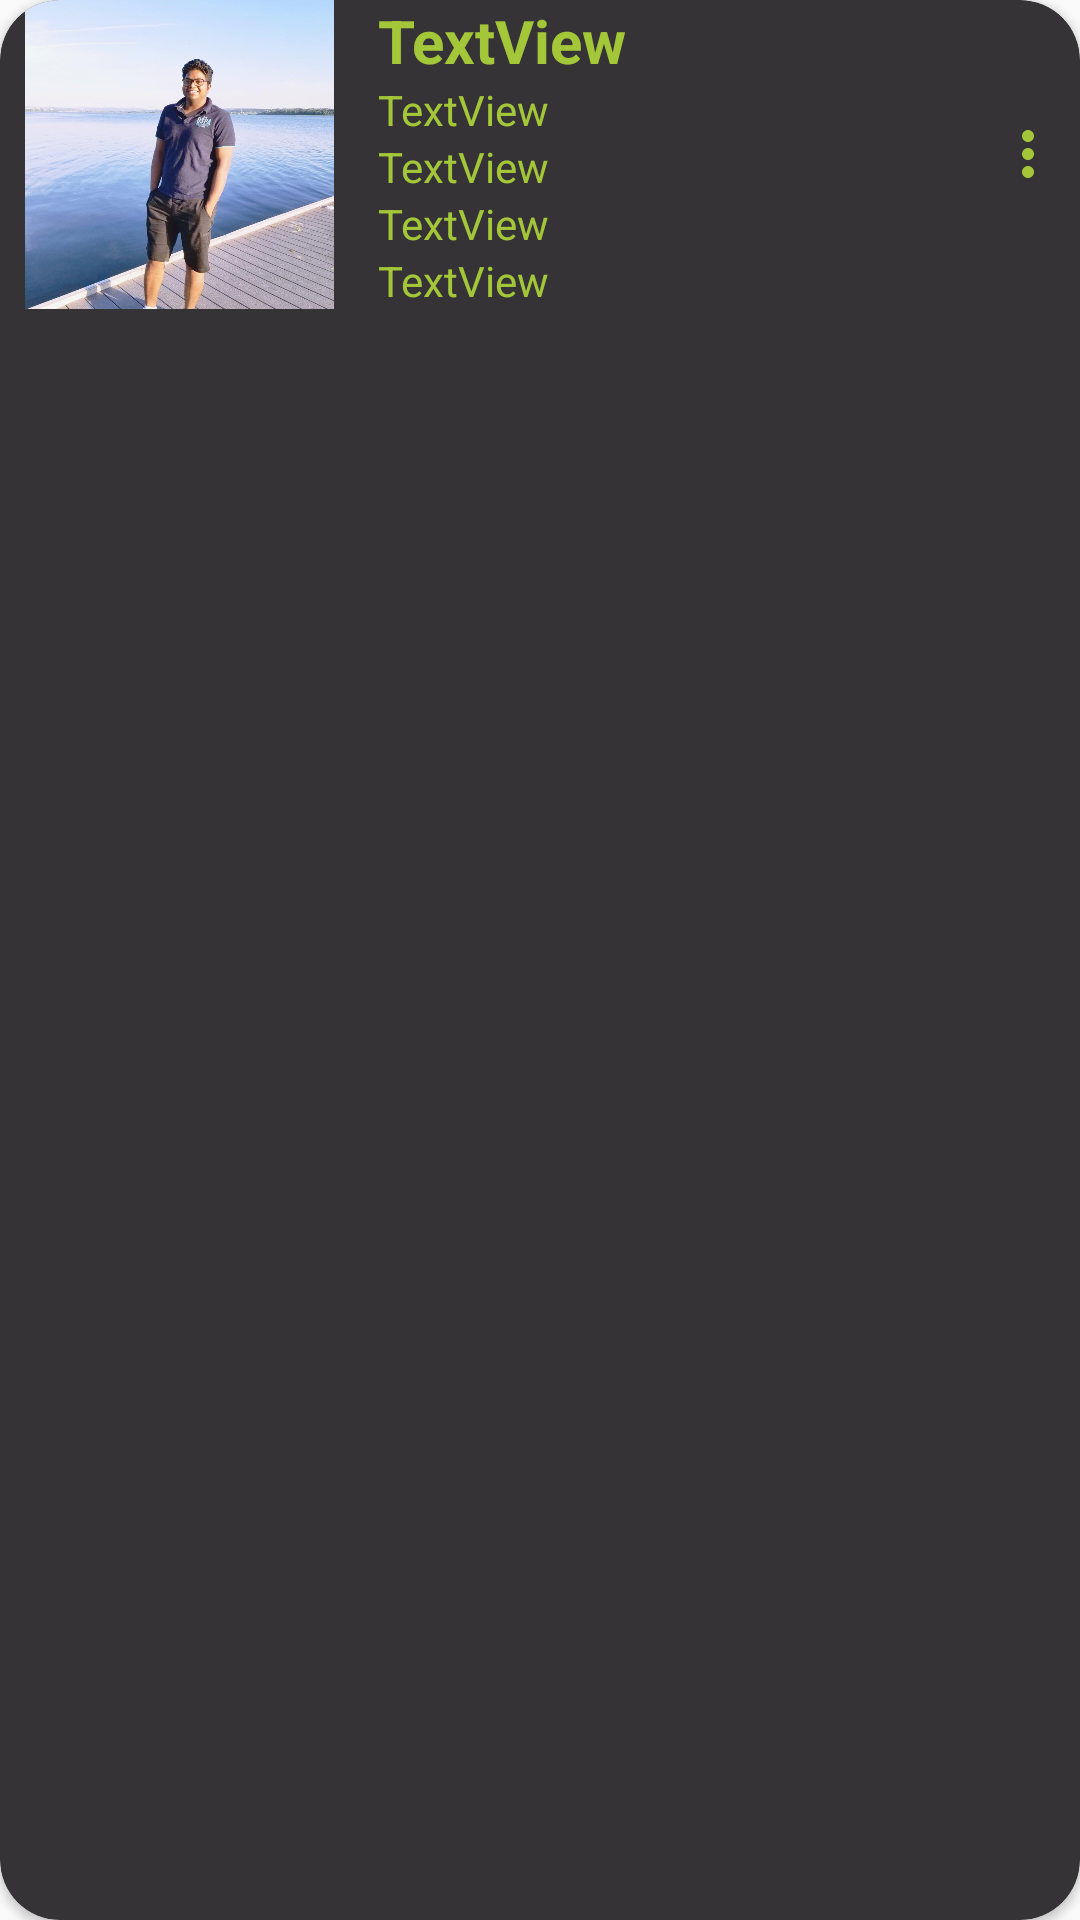

Screen size 1080 × 1920. Icon name, then its box in pixels as [x1=x1, y1=y1, x2=x2, y2=y2]:
overflow imggg: [x1=1022, y1=130, x2=1034, y2=178]
